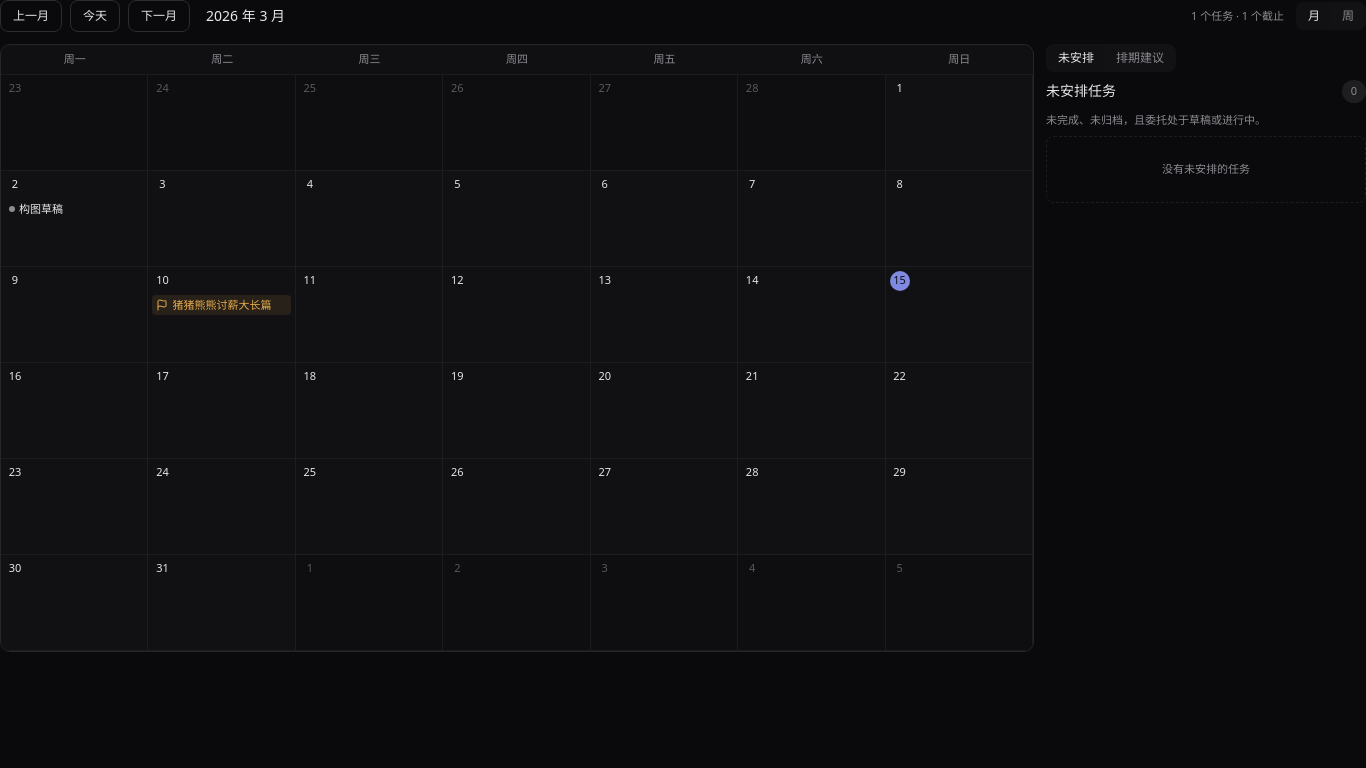
Test: 日历页：手动排期 › 保存失败显示可读错误并保持面板打开
Click the button with test id "calendar-task" at coordinates (74, 209), box [5, 198, 143, 219]
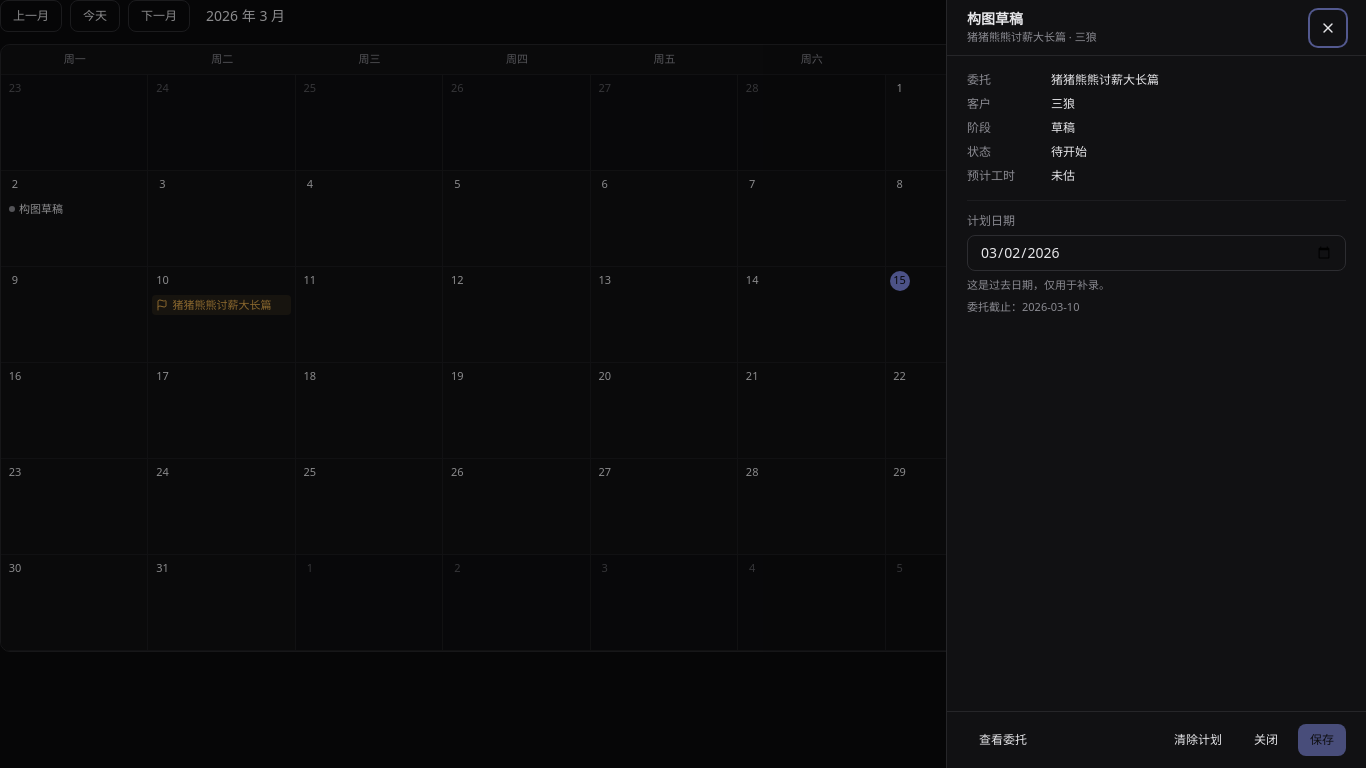
Type "2026-03-06" into the date field labelled "计划日期" at coordinates (1156, 253), box [967, 235, 1346, 271]
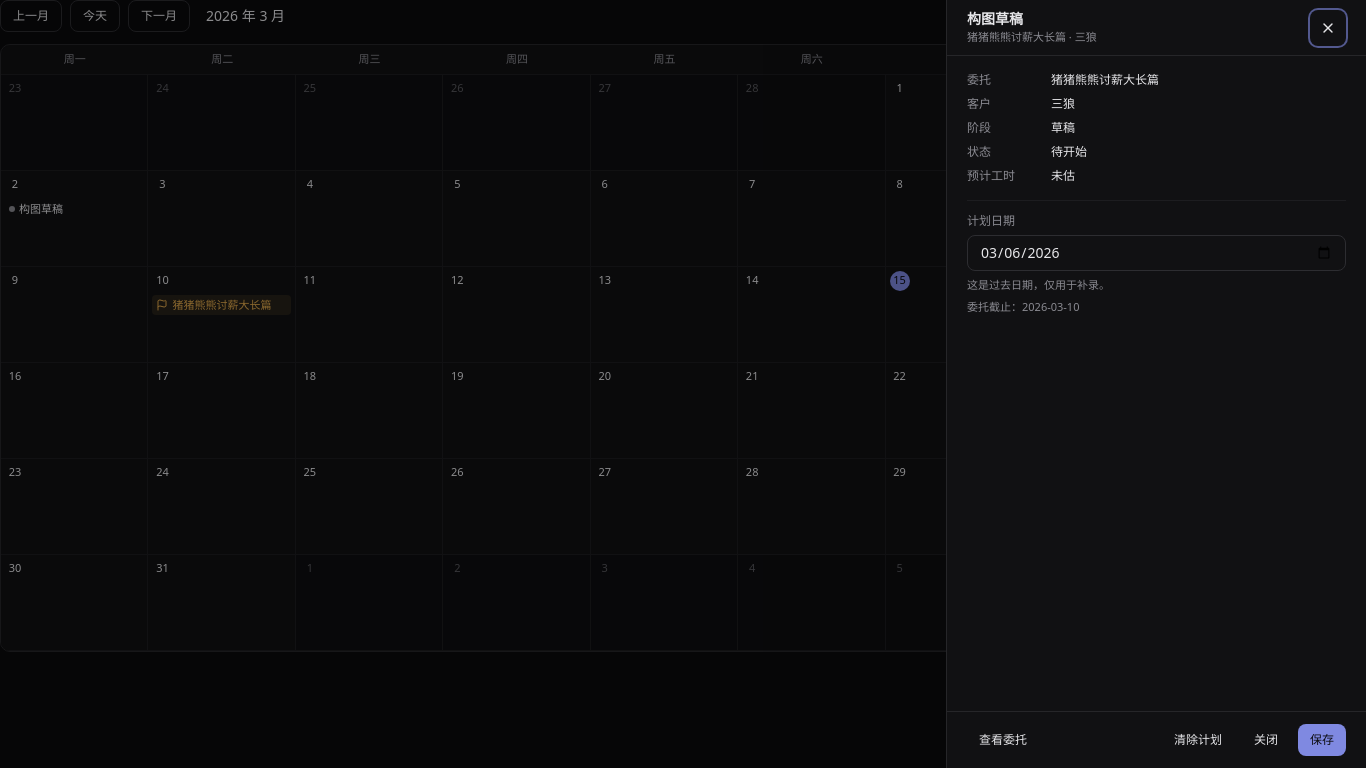
Click the button "保存" at coordinates (1322, 740), box [1298, 724, 1346, 756]
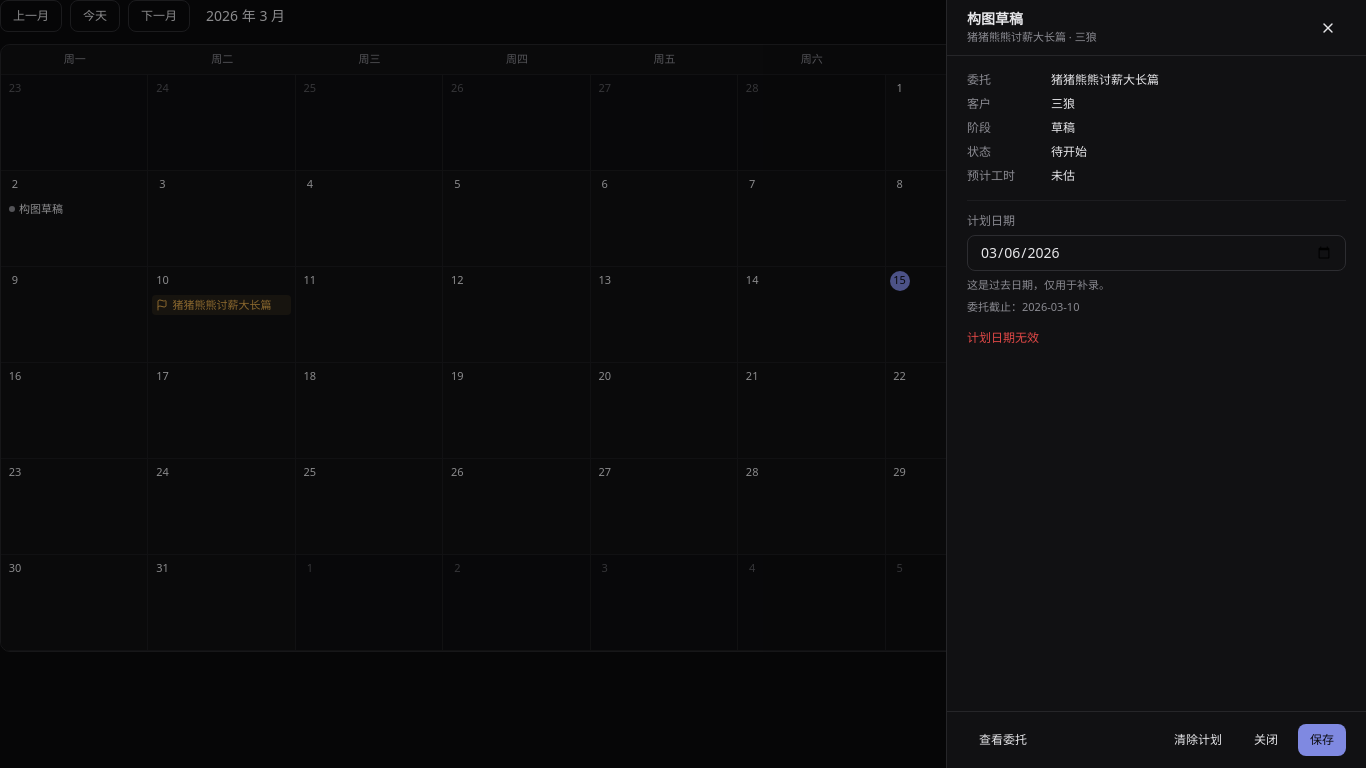
Expected: the dialog with test id "sheet" is shown, [946, 0, 1365, 767]
Expected: the text "计划日期无效" is shown, [967, 329, 1039, 346]
